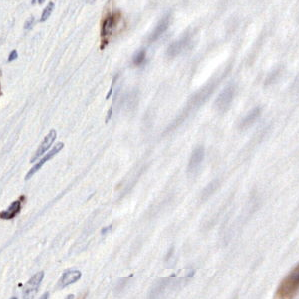Lymphocyte: (1, 196, 27, 223)
